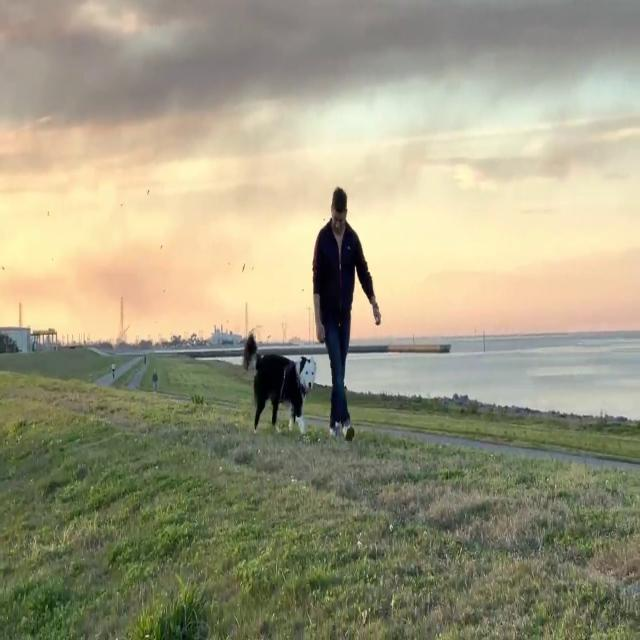Unleashed_Dog: (242, 319, 346, 439)
